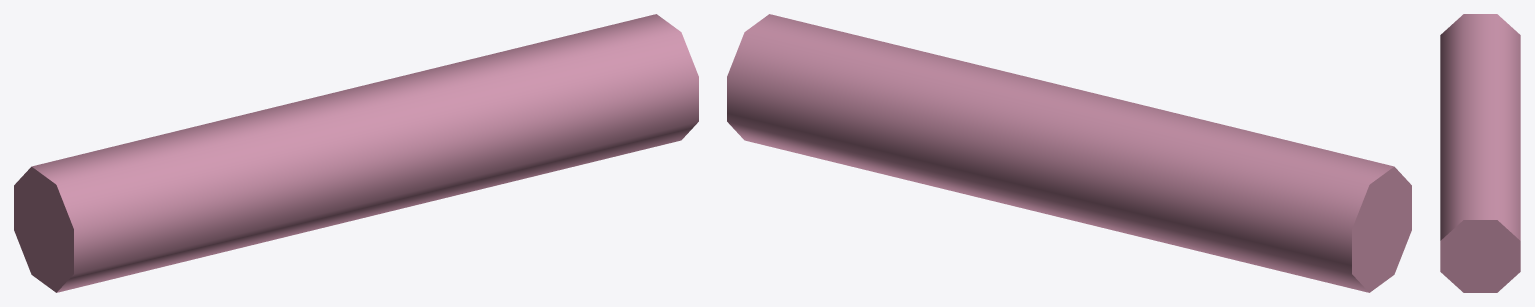
File: 0308_Red_Chalk.glb
3 views of the same model, side by side, from view 1: azimuth 30°, elevation 25°; view 2: azimuth 150°, elevation 25°; view 3: azimuth 270°, elevation 25° (orthographic). The views are drawn at different scales.
Parts seen in each view (by area): view 1: part_0; view 2: part_0; view 3: part_0.
Boxes of the visible parts, x1=… form: part_0: x1=14, y1=14, x2=698, y2=292; part_0: x1=727, y1=14, x2=1411, y2=292; part_0: x1=1440, y1=14, x2=1520, y2=292.
Size of the model in its own units: 0.065 by 0.0108 by 0.0108.
1 material, 1 textured.
